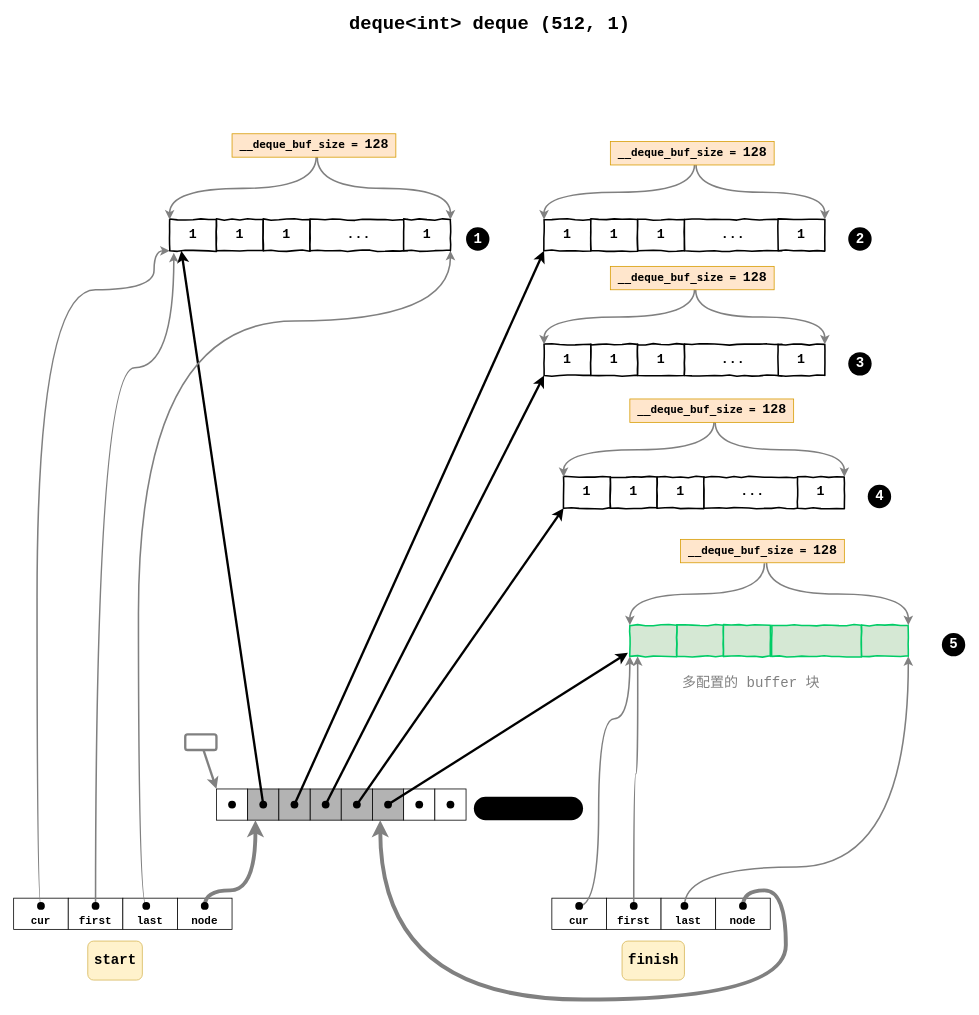
Image size: 979x1015. Some labels were removed from this diagram. The centre of each missing label's shape, as x and y in pixels:
"_M_map_size = 8" goes at point 528,808.
"map" goes at point 200,742.
